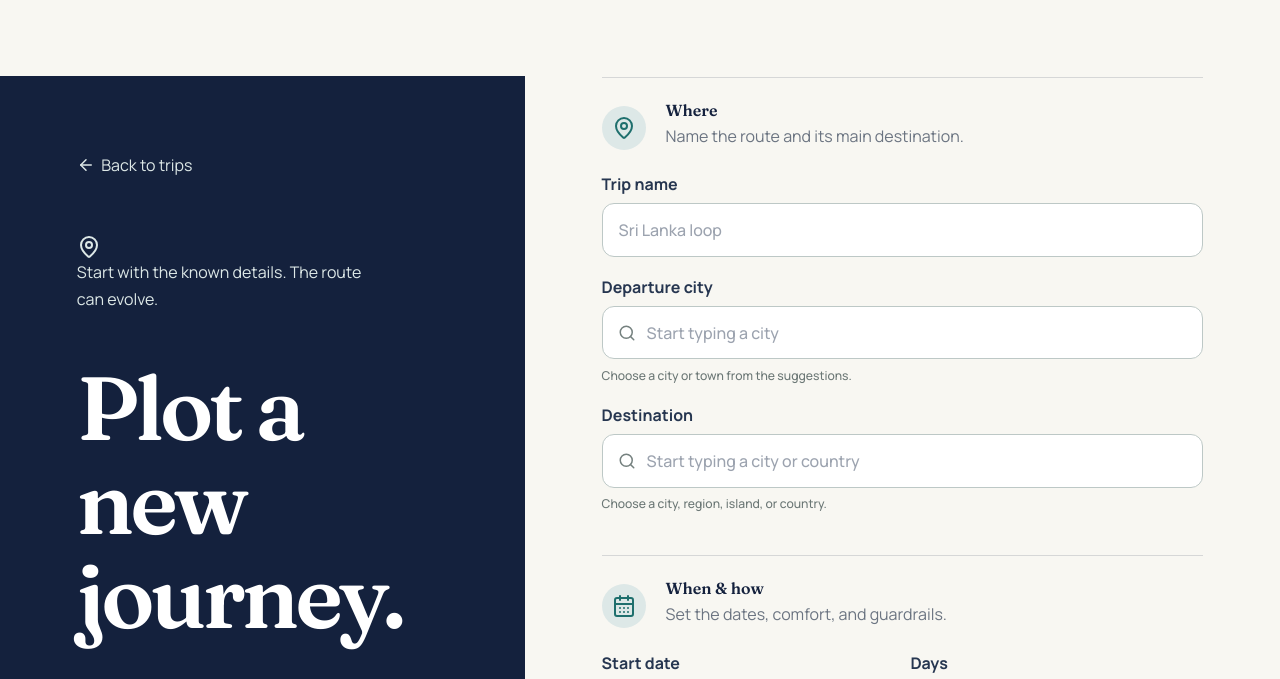
Test: trip creation › ignores option navigation while a location search has no results yet
Type "De" into the dropdown labelled "Departure city" at (902, 333), box [602,306,1203,359]
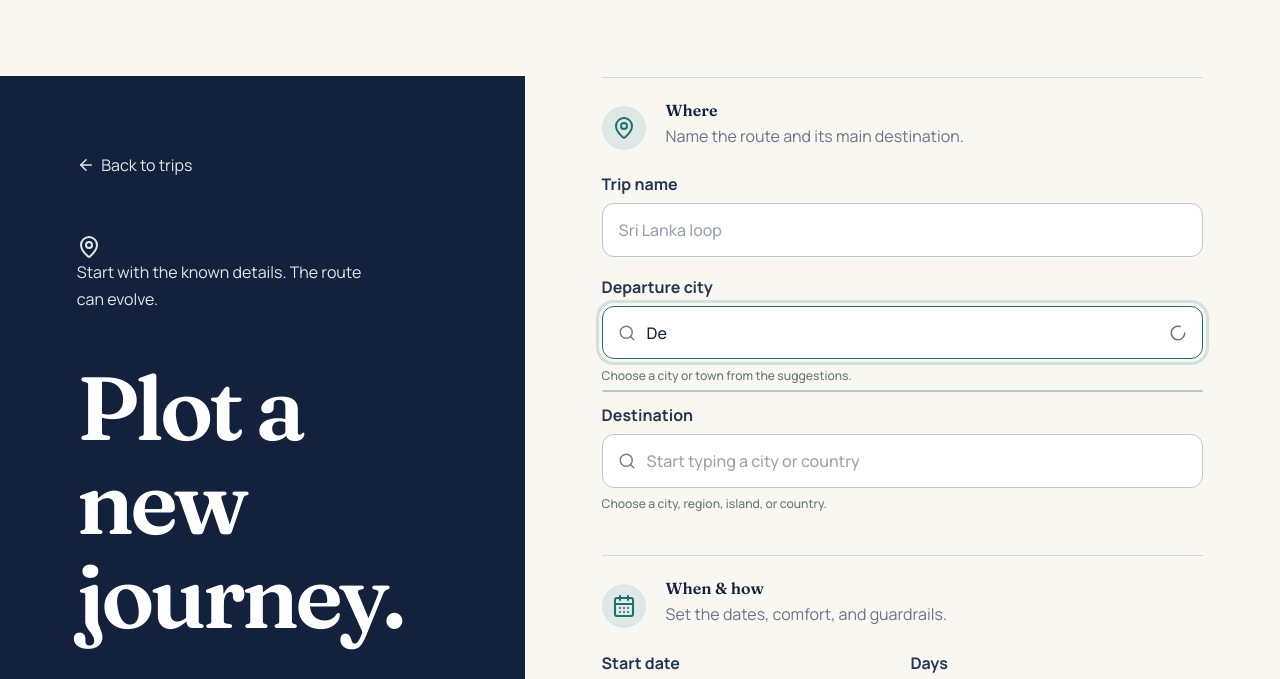
Expected: the icon named "Searching" is shown, [1169,324,1187,342]
Press Arrowup Enter
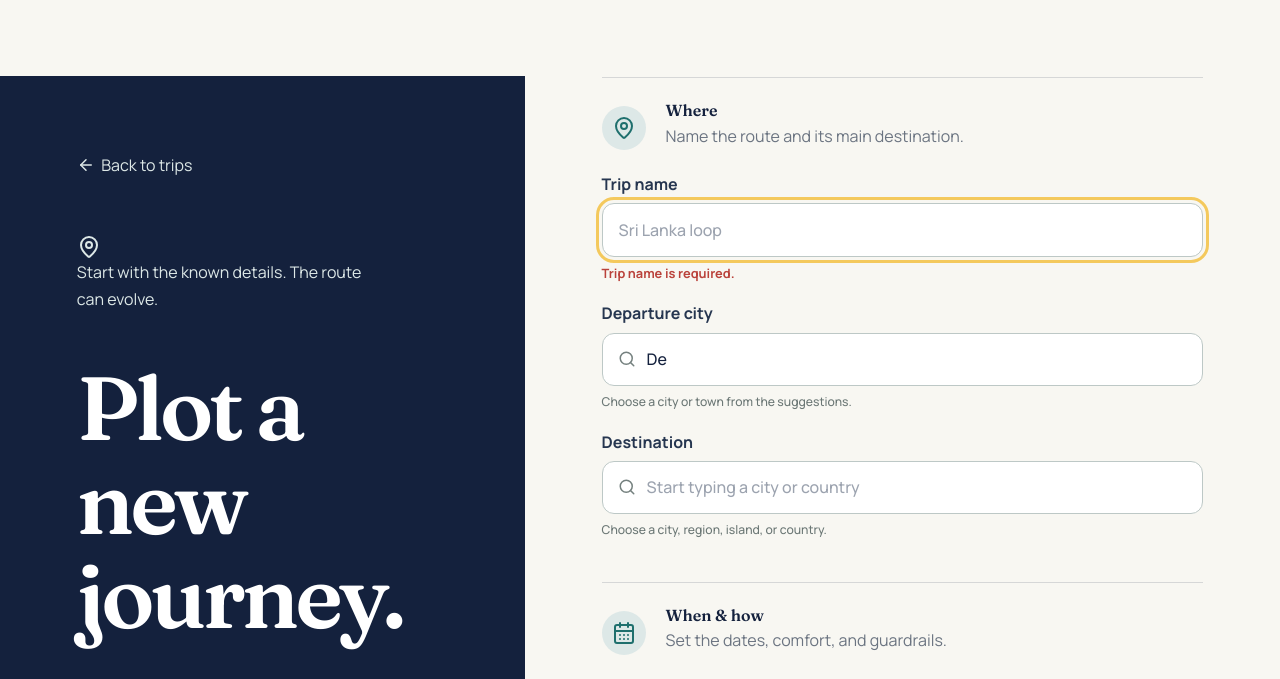
Expected: the icon labelled "Searching" is gone
